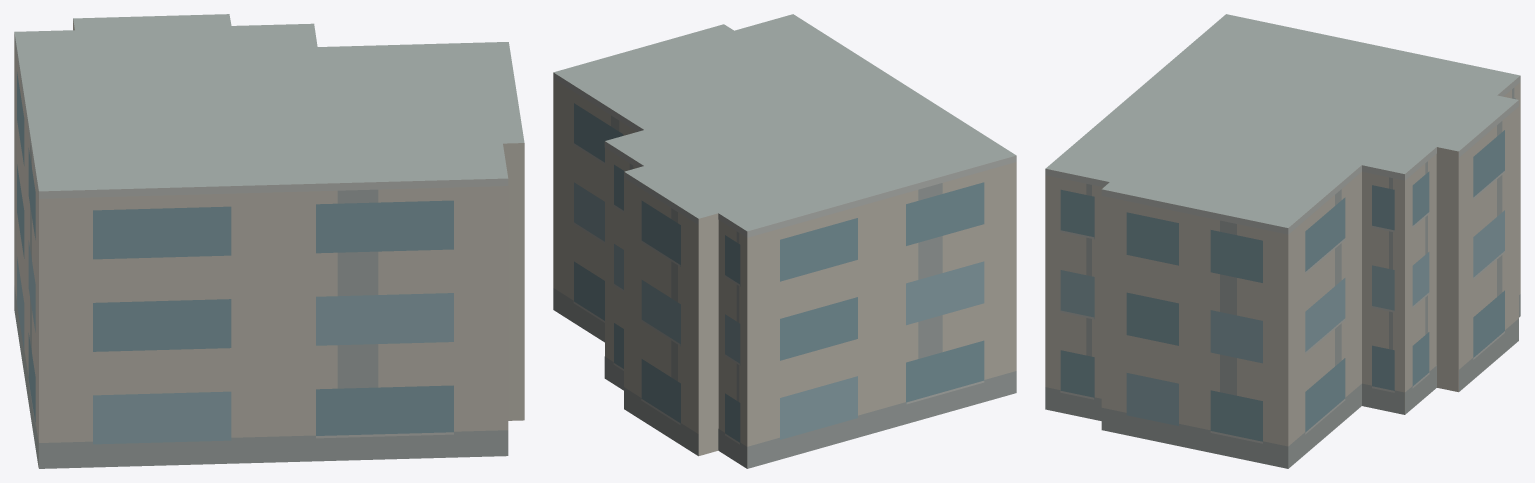
The model's file is residential-de8963e7-77c3-40f8-9ad0-feb3b0e39b1c.glb.
The picture shows the model from 3 angles, left to right: view 1: azimuth 30°, elevation 25°; view 2: azimuth 150°, elevation 25°; view 3: azimuth 270°, elevation 25°; orthographic projection. The views are drawn at different scales.
Parts seen in each view (by area): view 1: residential-de8963e7-77c3-40f8-9ad0-feb3b0e39b1c.tmp; view 2: residential-de8963e7-77c3-40f8-9ad0-feb3b0e39b1c.tmp; view 3: residential-de8963e7-77c3-40f8-9ad0-feb3b0e39b1c.tmp.
Part boxes in pixels (left/top/right/bottom): residential-de8963e7-77c3-40f8-9ad0-feb3b0e39b1c.tmp: left=14, top=14, right=524, bottom=468; residential-de8963e7-77c3-40f8-9ad0-feb3b0e39b1c.tmp: left=553, top=14, right=1016, bottom=468; residential-de8963e7-77c3-40f8-9ad0-feb3b0e39b1c.tmp: left=1045, top=14, right=1520, bottom=468.
Size of the model in its own units: 17.18 by 9 by 16.11.
